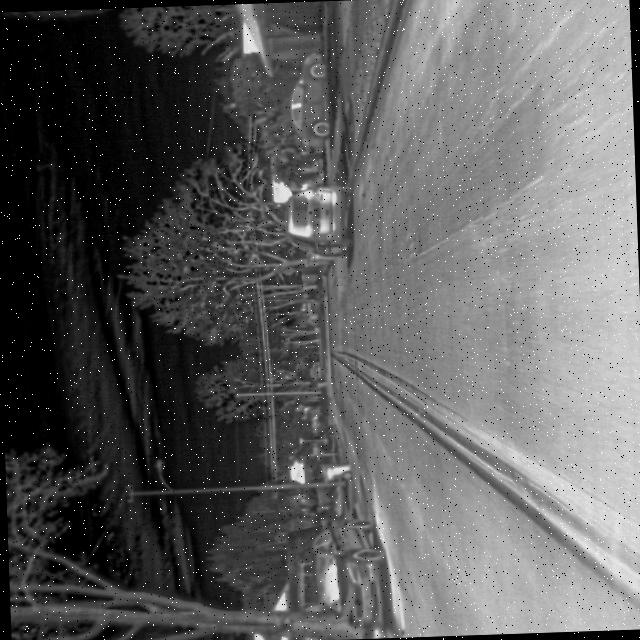Vehicle: (307, 516, 391, 632), (280, 182, 356, 260), (284, 51, 334, 152)
